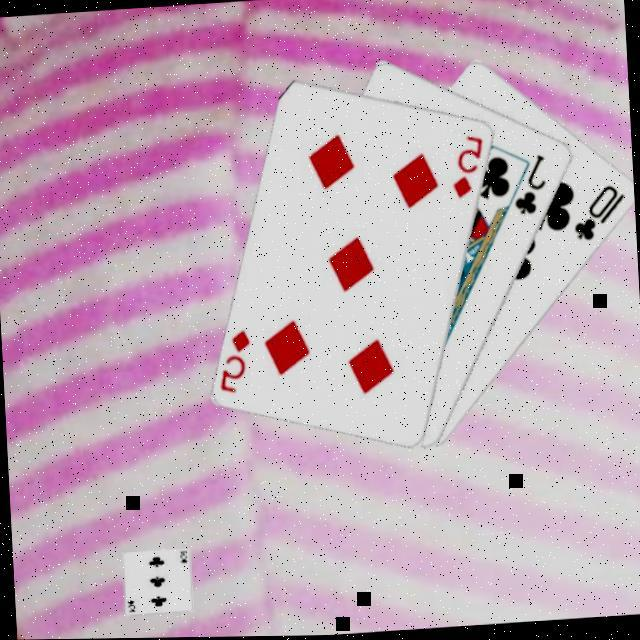10C: (566, 183, 630, 249)
5D: (211, 326, 255, 398), (446, 134, 488, 204)
JC: (507, 152, 550, 222)
